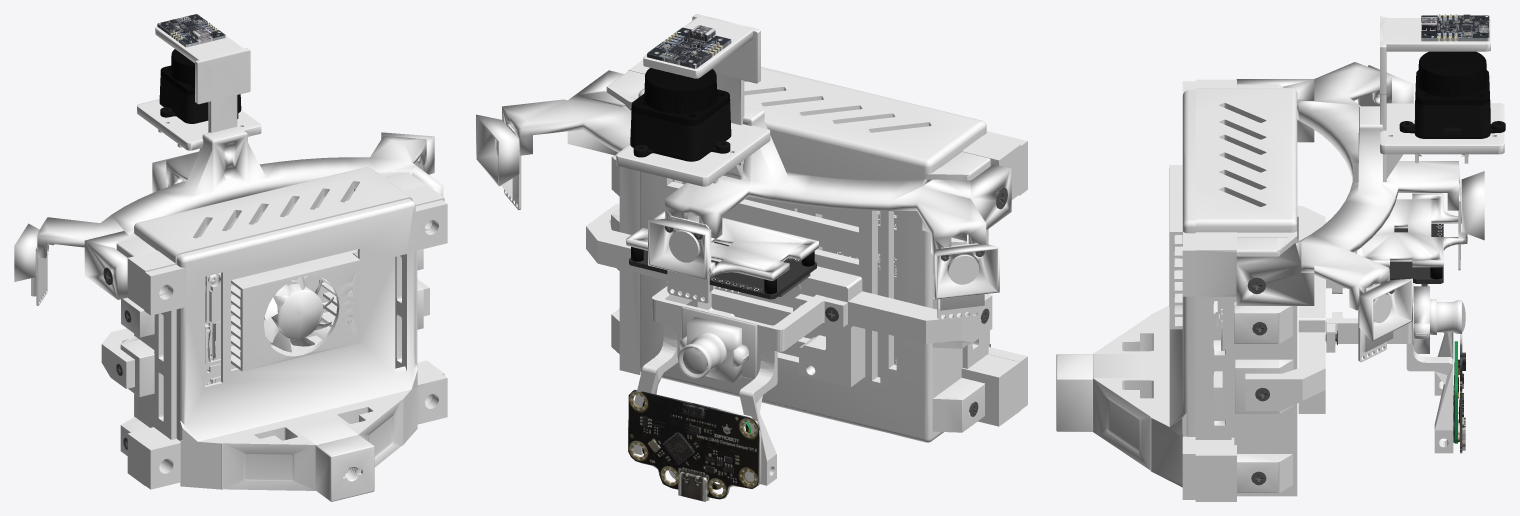
File: module-v6.glb
3 renders of one model, left to right at view 1: azimuth 30°, elevation 25°; view 2: azimuth 150°, elevation 25°; view 3: azimuth 270°, elevation 25°, orthographic. The views are drawn at different scales.
Parts seen in each view (by area): view 1: shell-rear, housing-rear, chassis-upper, jetson, mount-top, lidar-ld19, chassis-lower, imu, mic-c; view 2: housing-rear, chassis-upper, chassis-lower, tof-8x8, mount-top, lidar-ld19, camera-ar0234, imu, pcb-core, shell-rear, mic-b, jetson (+1 smaller); view 3: housing-rear, chassis-upper, shell-rear, chassis-lower, lidar-ld19, mount-top, jetson, camera-ar0234, imu, pcb-core, mic-a, mount-detail (+1 smaller).
Boxes of the visible parts, <box> form: shell-rear: <box>144,199,447,501</box>; housing-rear: <box>116,167,444,485</box>; chassis-upper: <box>14,126,443,299</box>; jetson: <box>197,200,360,385</box>; mount-top: <box>137,26,261,150</box>; lidar-ld19: <box>159,49,241,123</box>; chassis-lower: <box>101,279,429,388</box>; imu: <box>157,14,225,47</box>; mic-c: <box>36,247,47,305</box>; housing-rear: <box>606,60,1020,442</box>; chassis-upper: <box>476,70,1011,310</box>; chassis-lower: <box>586,203,992,485</box>; tof-8x8: <box>628,389,761,501</box>; mount-top: <box>616,14,770,186</box>; lidar-ld19: <box>630,68,731,161</box>; camera-ar0234: <box>678,306,757,382</box>; imu: <box>647,25,731,68</box>; pcb-core: <box>629,242,816,299</box>; shell-rear: <box>761,66,1027,410</box>; mic-b: <box>667,216,709,303</box>; jetson: <box>672,179,896,377</box>; housing-rear: <box>1195,79,1297,501</box>; chassis-upper: <box>1236,62,1484,352</box>; shell-rear: <box>1056,81,1197,499</box>; chassis-lower: <box>1245,206,1453,453</box>; lidar-ld19: <box>1399,51,1505,138</box>; mount-top: <box>1380,16,1504,181</box>; jetson: <box>1169,165,1225,420</box>; camera-ar0234: <box>1412,283,1465,353</box>; imu: <box>1421,14,1489,41</box>; pcb-core: <box>1389,224,1443,286</box>; mic-a: <box>1358,283,1391,362</box>; mount-detail: <box>1453,341,1459,443</box>.
Bounding box in the file's own units: 2.41 × 2 × 1.9.
24 materials, 3 textured.
